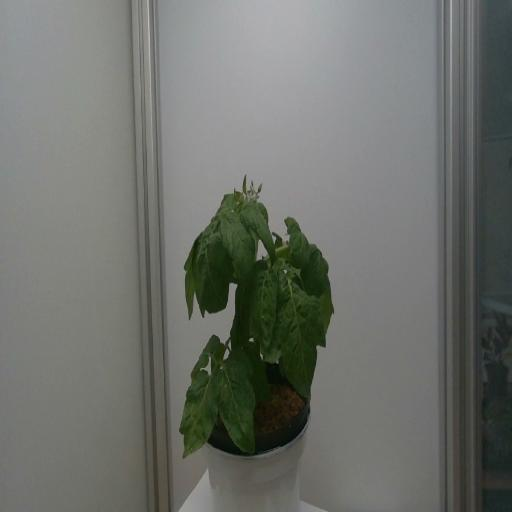Tomato-Leaves-Cupboard-: (278, 273, 324, 405), (220, 359, 262, 464), (177, 369, 220, 460), (197, 230, 234, 316), (217, 210, 260, 276), (251, 258, 279, 353), (245, 202, 278, 266), (227, 282, 254, 346), (284, 210, 312, 271), (299, 242, 330, 294), (186, 331, 219, 375), (180, 247, 196, 328), (228, 344, 258, 384), (314, 284, 335, 332), (216, 193, 238, 209), (255, 202, 271, 219), (271, 229, 282, 247), (241, 171, 248, 197)
